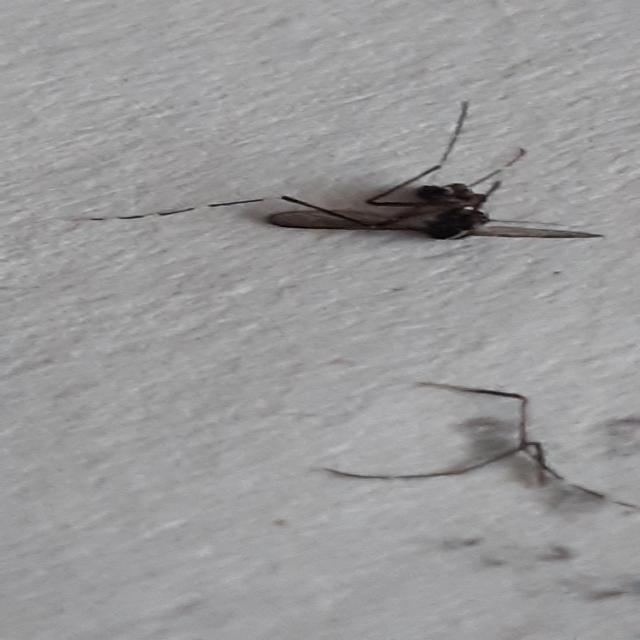albopictus: (75, 101, 616, 277)
